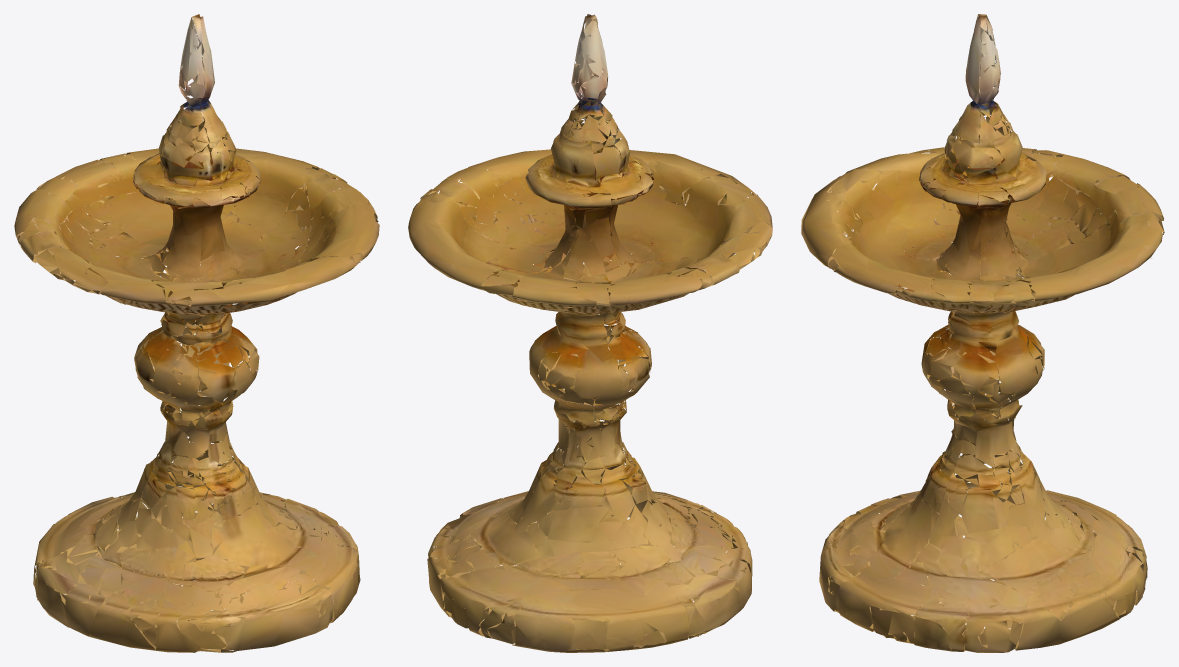
Rendered from golden_oil.glb.
3 renders of one model, left to right at view 1: azimuth 30°, elevation 25°; view 2: azimuth 150°, elevation 25°; view 3: azimuth 270°, elevation 25°, orthographic.
Parts seen in each view (by area): view 1: Object_4, Object_5, Object_6; view 2: Object_4, Object_5, Object_6; view 3: Object_4, Object_5, Object_6.
Part boxes in pixels (box(x1,y1,x2,y2)): Object_4: box(16, 14, 378, 652); Object_5: box(14, 16, 372, 624); Object_6: box(74, 155, 379, 652); Object_4: box(414, 14, 772, 649); Object_5: box(408, 14, 739, 652); Object_6: box(466, 132, 772, 597); Object_4: box(801, 14, 1164, 652); Object_5: box(904, 16, 1163, 651); Object_6: box(828, 135, 952, 651).
Bounding box in the file's own units: 1.1 × 1.91 × 1.1.
1 material, 1 textured.
